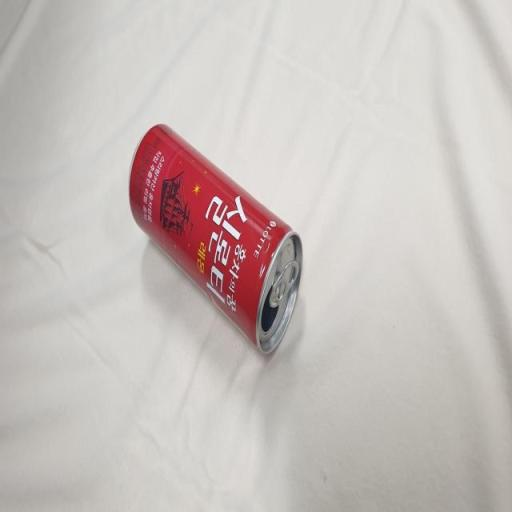metal: (102, 90, 310, 383)
